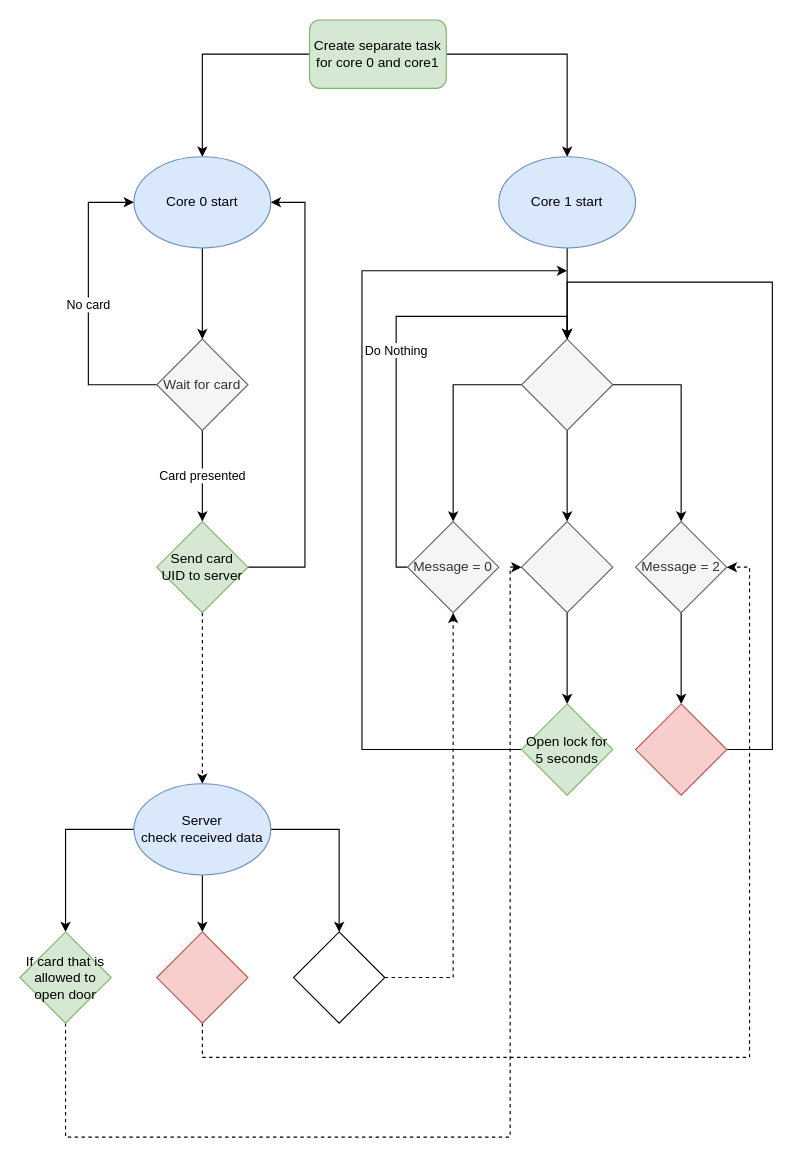
Some shapes in this 801 by 1166 pixel diagram are drawn without their labels. Here are the shapes that lost their labels. From the top down, the centre of each, then its label:
At [566,384]: "Scan server for messages".
At [566,566]: "Message = 1".
At [680,749]: "Flash red light".
At [202,977]: "If card that is not allowed to open door".
At [338,977]: "if nothing".
